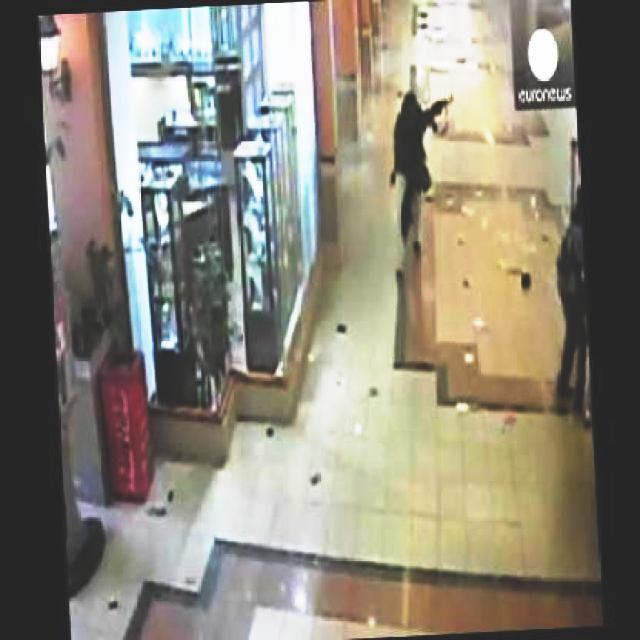Gun: (423, 91, 462, 128)
